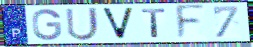7: (212, 6, 241, 40)
F: (175, 3, 207, 42)
G: (31, 8, 63, 41)
T: (140, 7, 168, 39)
U: (64, 6, 101, 42)
V: (100, 7, 137, 41)
